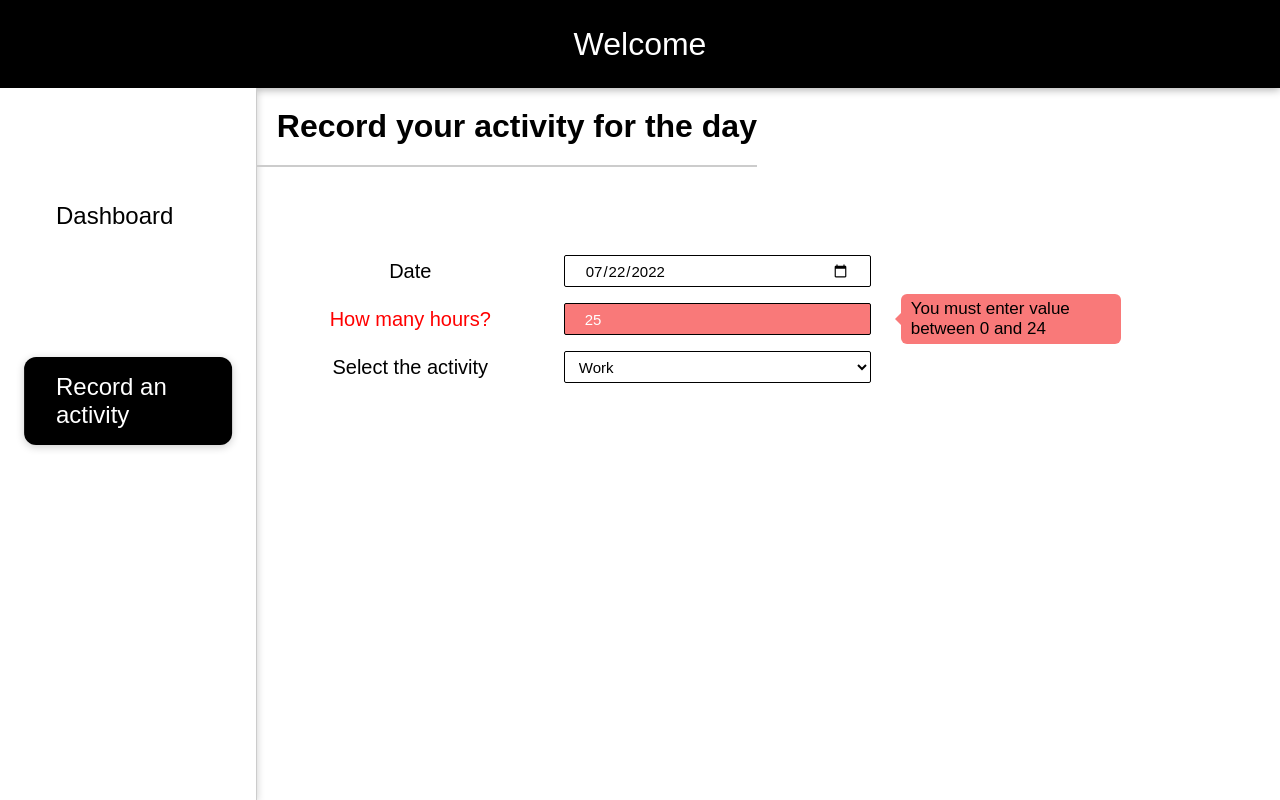
Test: The Home Page › add correct data before send request and ensure that button is now visible
Replace the text in the number field with id "numberInput" with "24" at (718, 319), box [564, 303, 871, 335]
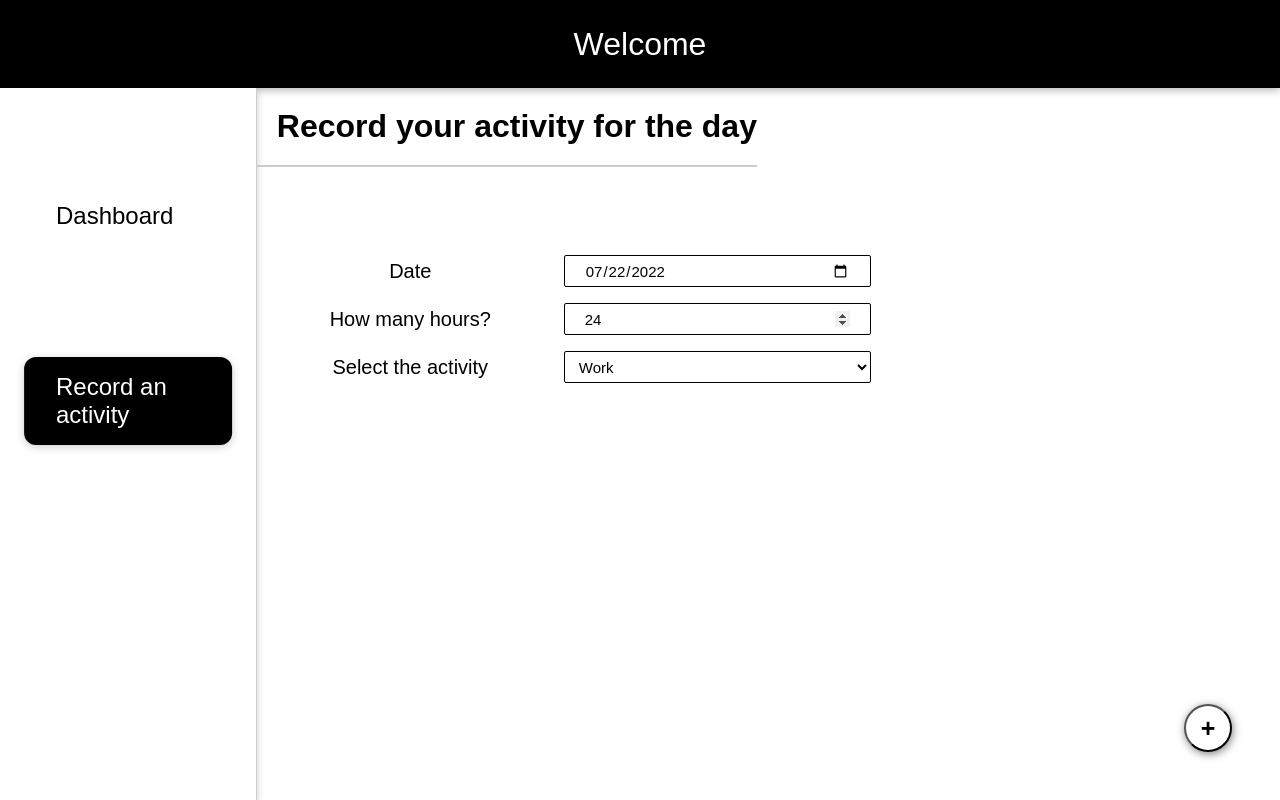
Expected: the button "+" is shown, [1184, 704, 1232, 752]
